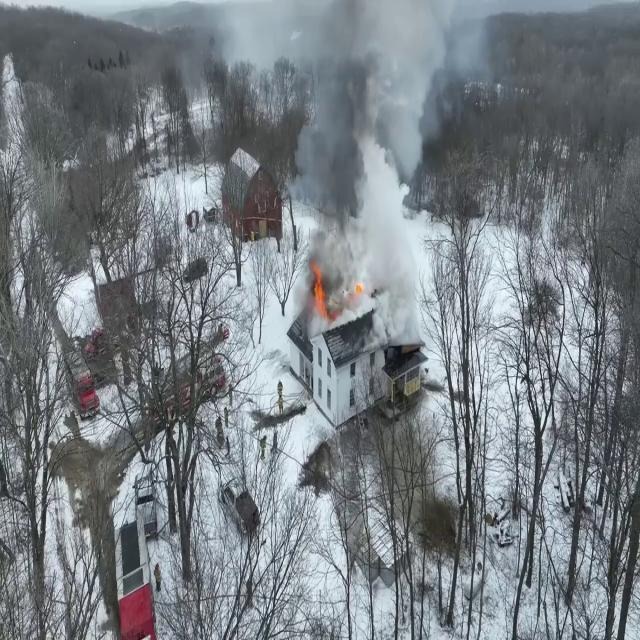Fire: (308, 256, 330, 320)
Smoke: (288, 0, 508, 322)
